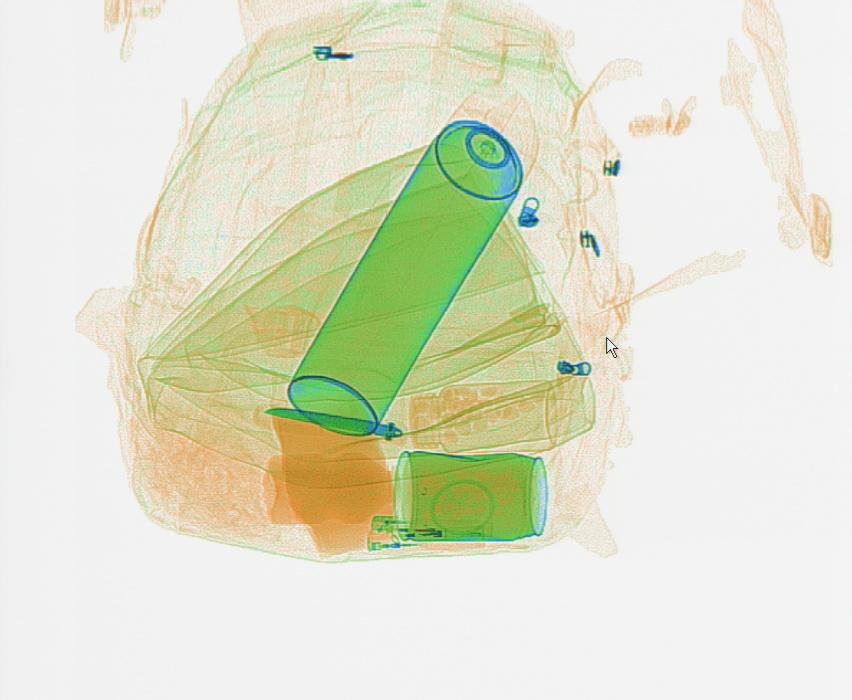knife: (249, 400, 407, 451)
lighter: (367, 511, 496, 538), (359, 529, 491, 553)
pressure: (279, 78, 542, 438)
